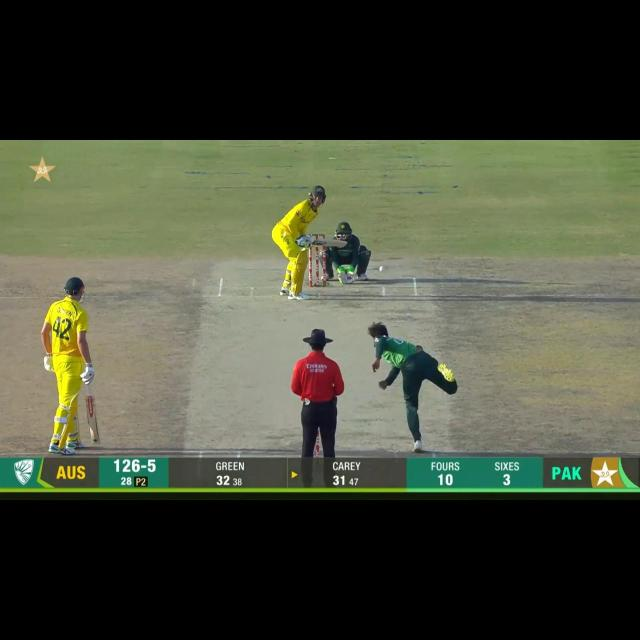bat: (85, 395, 102, 444), (310, 240, 348, 248)
toe: (84, 435, 102, 445), (339, 240, 347, 249)
